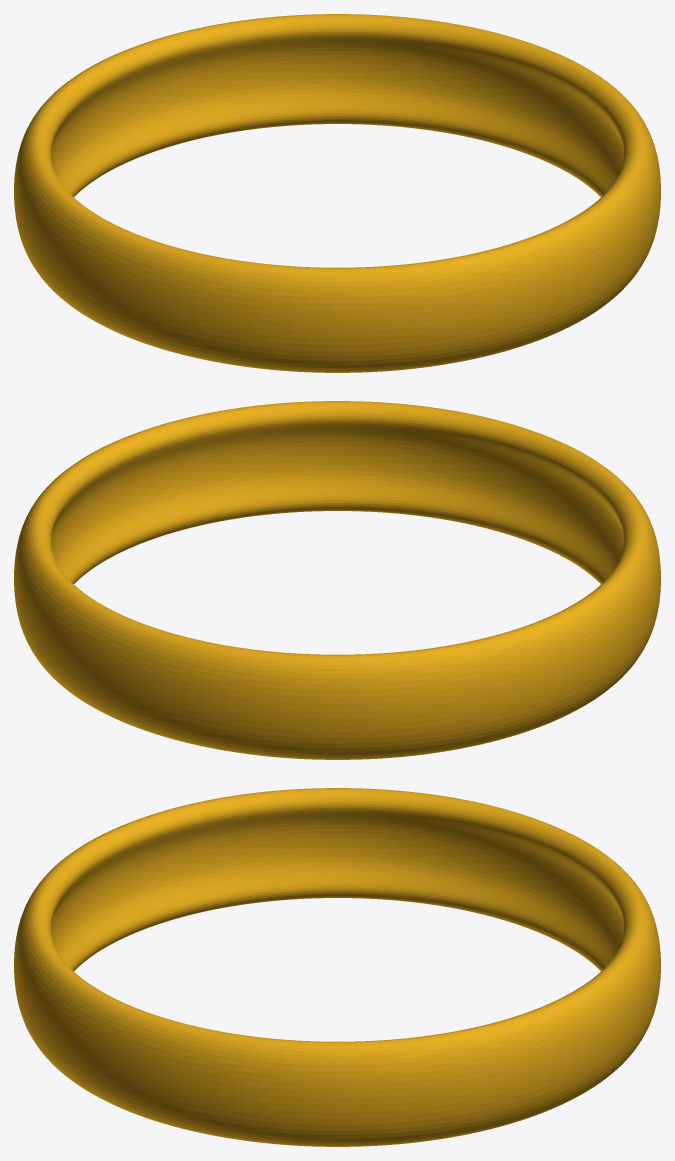
File: ring.fbx
The picture shows the model from 3 angles, top to bottom: view 1: azimuth 30°, elevation 25°; view 2: azimuth 150°, elevation 25°; view 3: azimuth 270°, elevation 25°; orthographic projection.
Parts seen in each view (by area): view 1: Circle; view 2: Circle; view 3: Circle.
Part boxes in pixels (bbox=[...]): Circle: bbox=[14, 14, 660, 372]; Circle: bbox=[14, 401, 660, 759]; Circle: bbox=[14, 788, 660, 1146].
Size of the model in its own units: 216 by 38.86 by 216.
